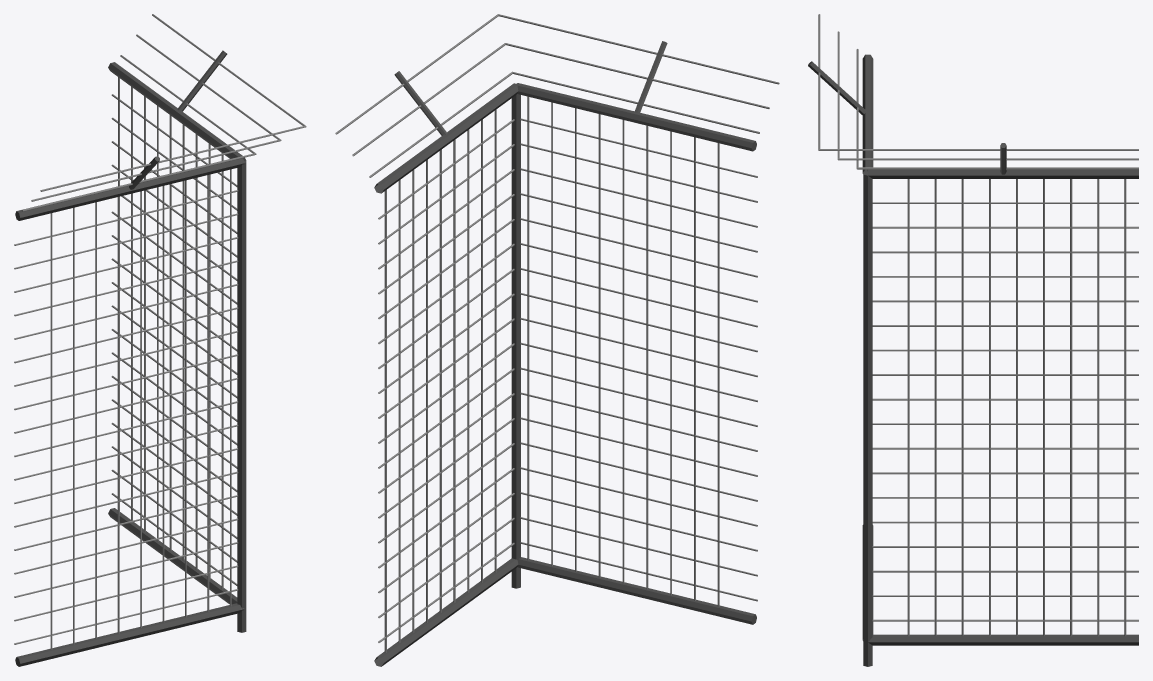
The model's file is Fences_02.fbx.
3 views of the same model, side by side, from view 1: azimuth 30°, elevation 25°; view 2: azimuth 150°, elevation 25°; view 3: azimuth 270°, elevation 25° (orthographic). The views are drawn at different scales.
Parts seen in each view (by area): view 1: Fence_02_2; view 2: Fence_02_2; view 3: Fence_02_2.
Part boxes in pixels (x1,y1,x2,y2): Fence_02_2: [14, 14, 306, 666]; Fence_02_2: [335, 14, 779, 666]; Fence_02_2: [808, 14, 1138, 666].
Bounding box in the file's own units: 123 × 222 × 122.
Materials: 1 (1 with a texture image).
